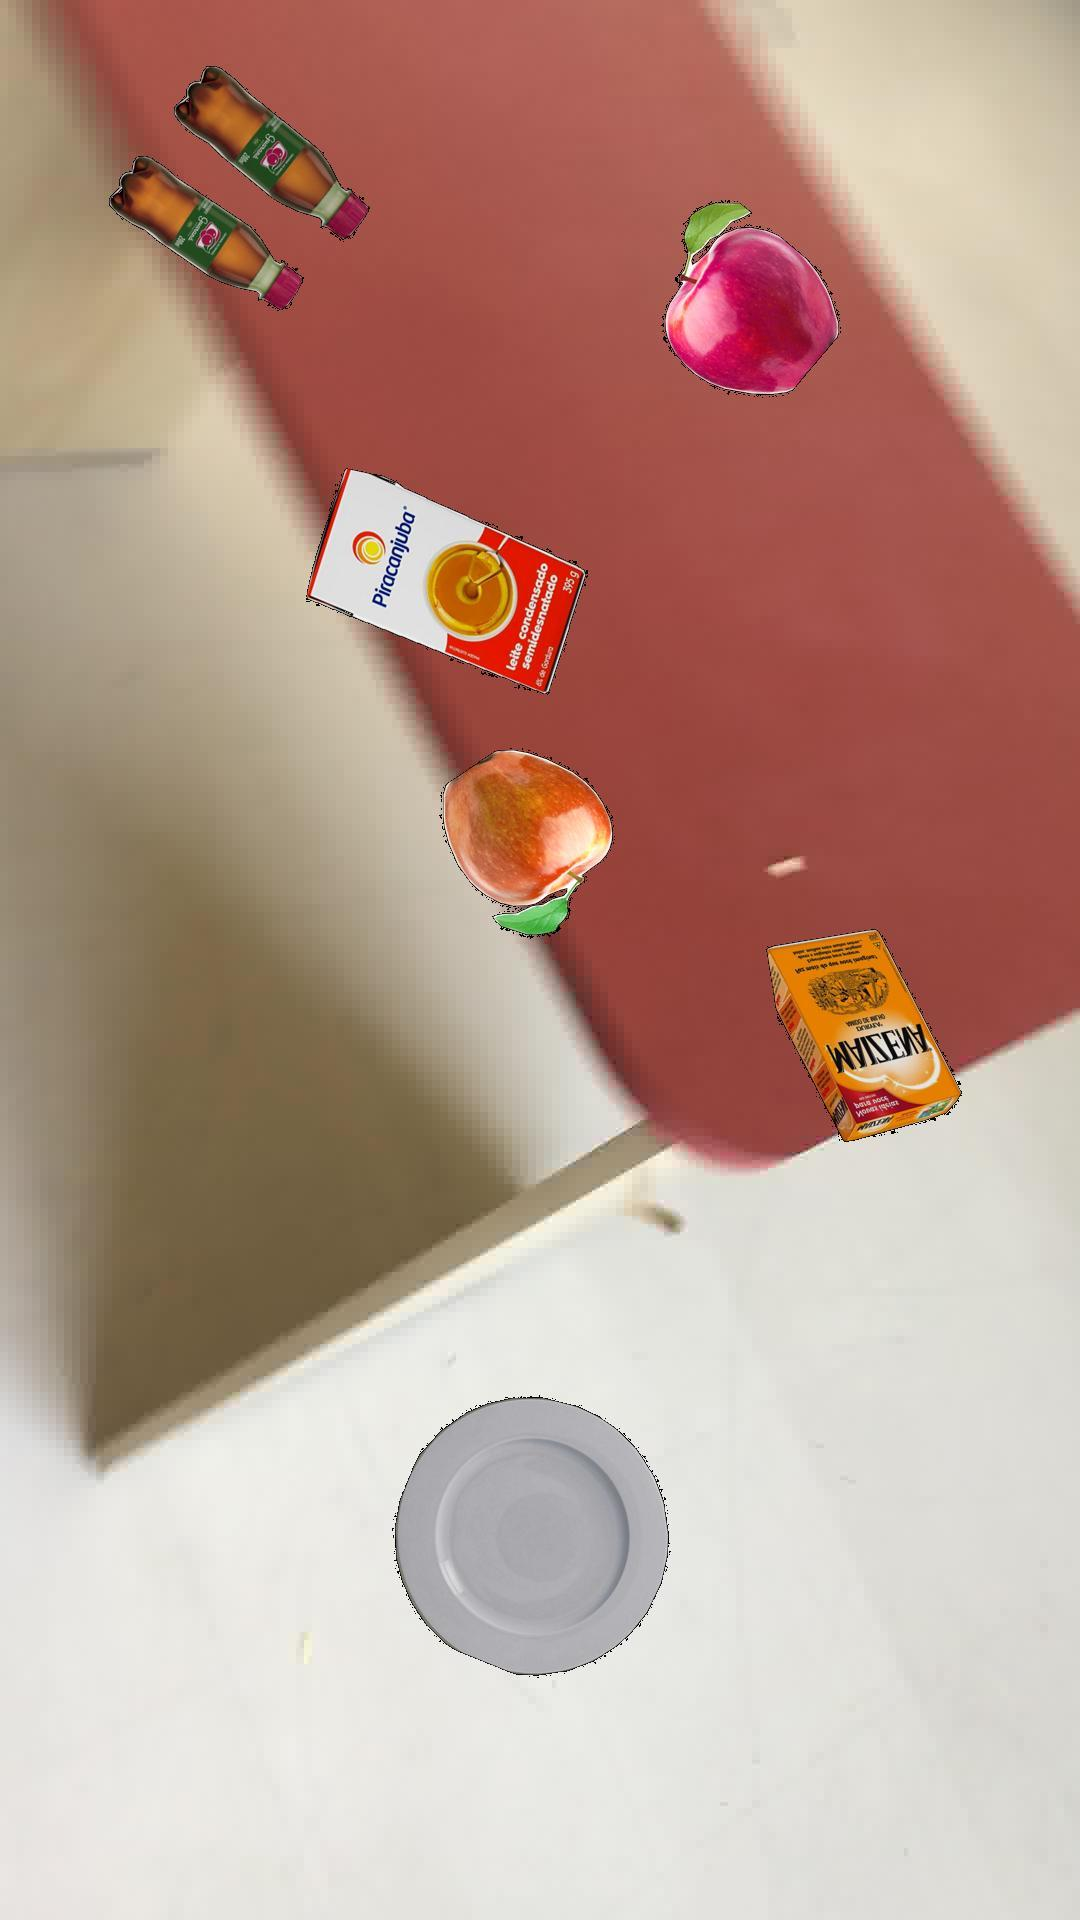apple: (662, 199, 839, 394), (442, 749, 612, 938)
guarana: (173, 65, 368, 239), (108, 154, 302, 309)
plate: (393, 1394, 669, 1675)
